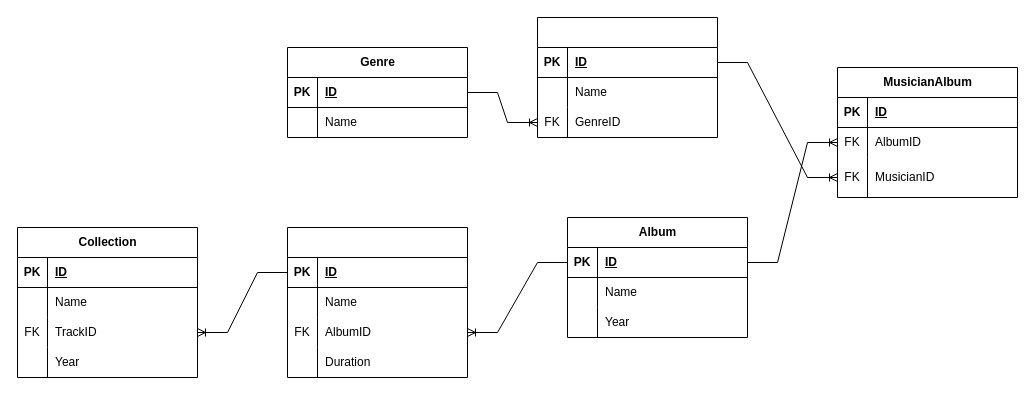
The diagram is 1035 pixels wide and 395 high, and some of its shapes have lost their labels. The box of each missing label's shape, as (x1, y1, x2, y2) in pixels:
Musician: (536, 16, 718, 138)
Tracks: (286, 226, 468, 378)
